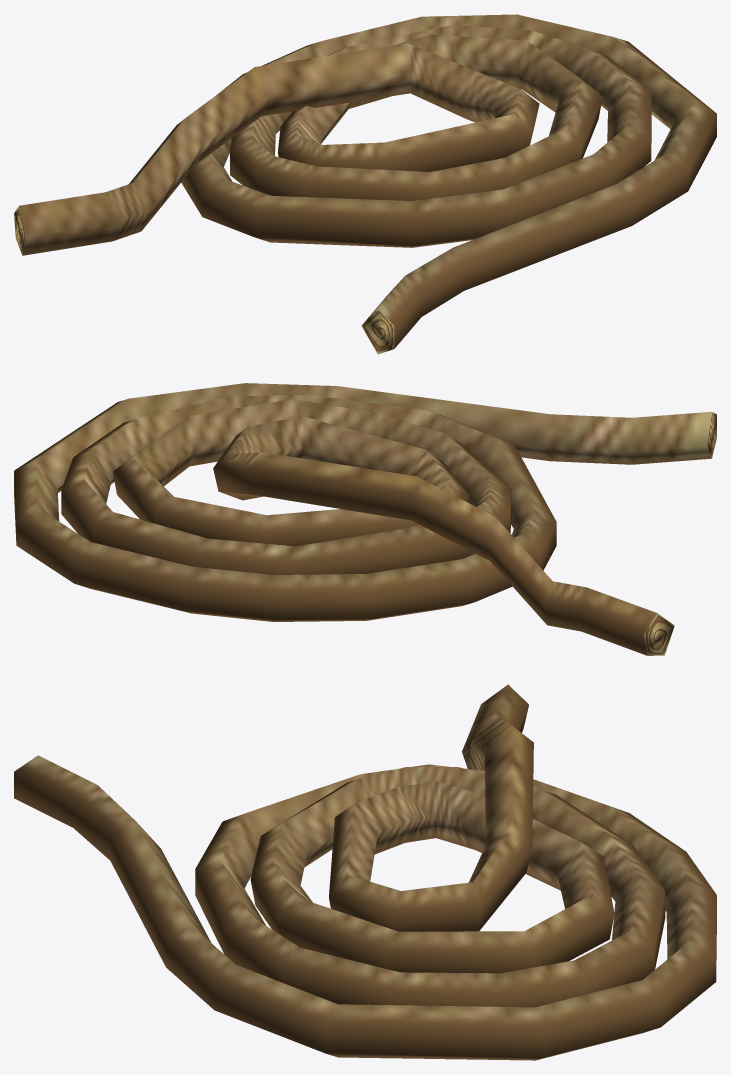
Rendered from corda1.fbx.
3 renders of one model, top to bottom at view 1: azimuth 30°, elevation 25°; view 2: azimuth 150°, elevation 25°; view 3: azimuth 270°, elevation 25°, orthographic. The views are drawn at different scales.
Visible parts, largest first — view 1: CA_OPE_Props_Fazenda; view 2: CA_OPE_Props_Fazenda; view 3: CA_OPE_Props_Fazenda.
Boxes of the visible parts, bbox=[...] form: CA_OPE_Props_Fazenda: bbox=[14, 14, 716, 354]; CA_OPE_Props_Fazenda: bbox=[14, 383, 716, 655]; CA_OPE_Props_Fazenda: bbox=[14, 684, 716, 1060].
Bounding box in the file's own units: 1.79 × 0.3392 × 1.52.
